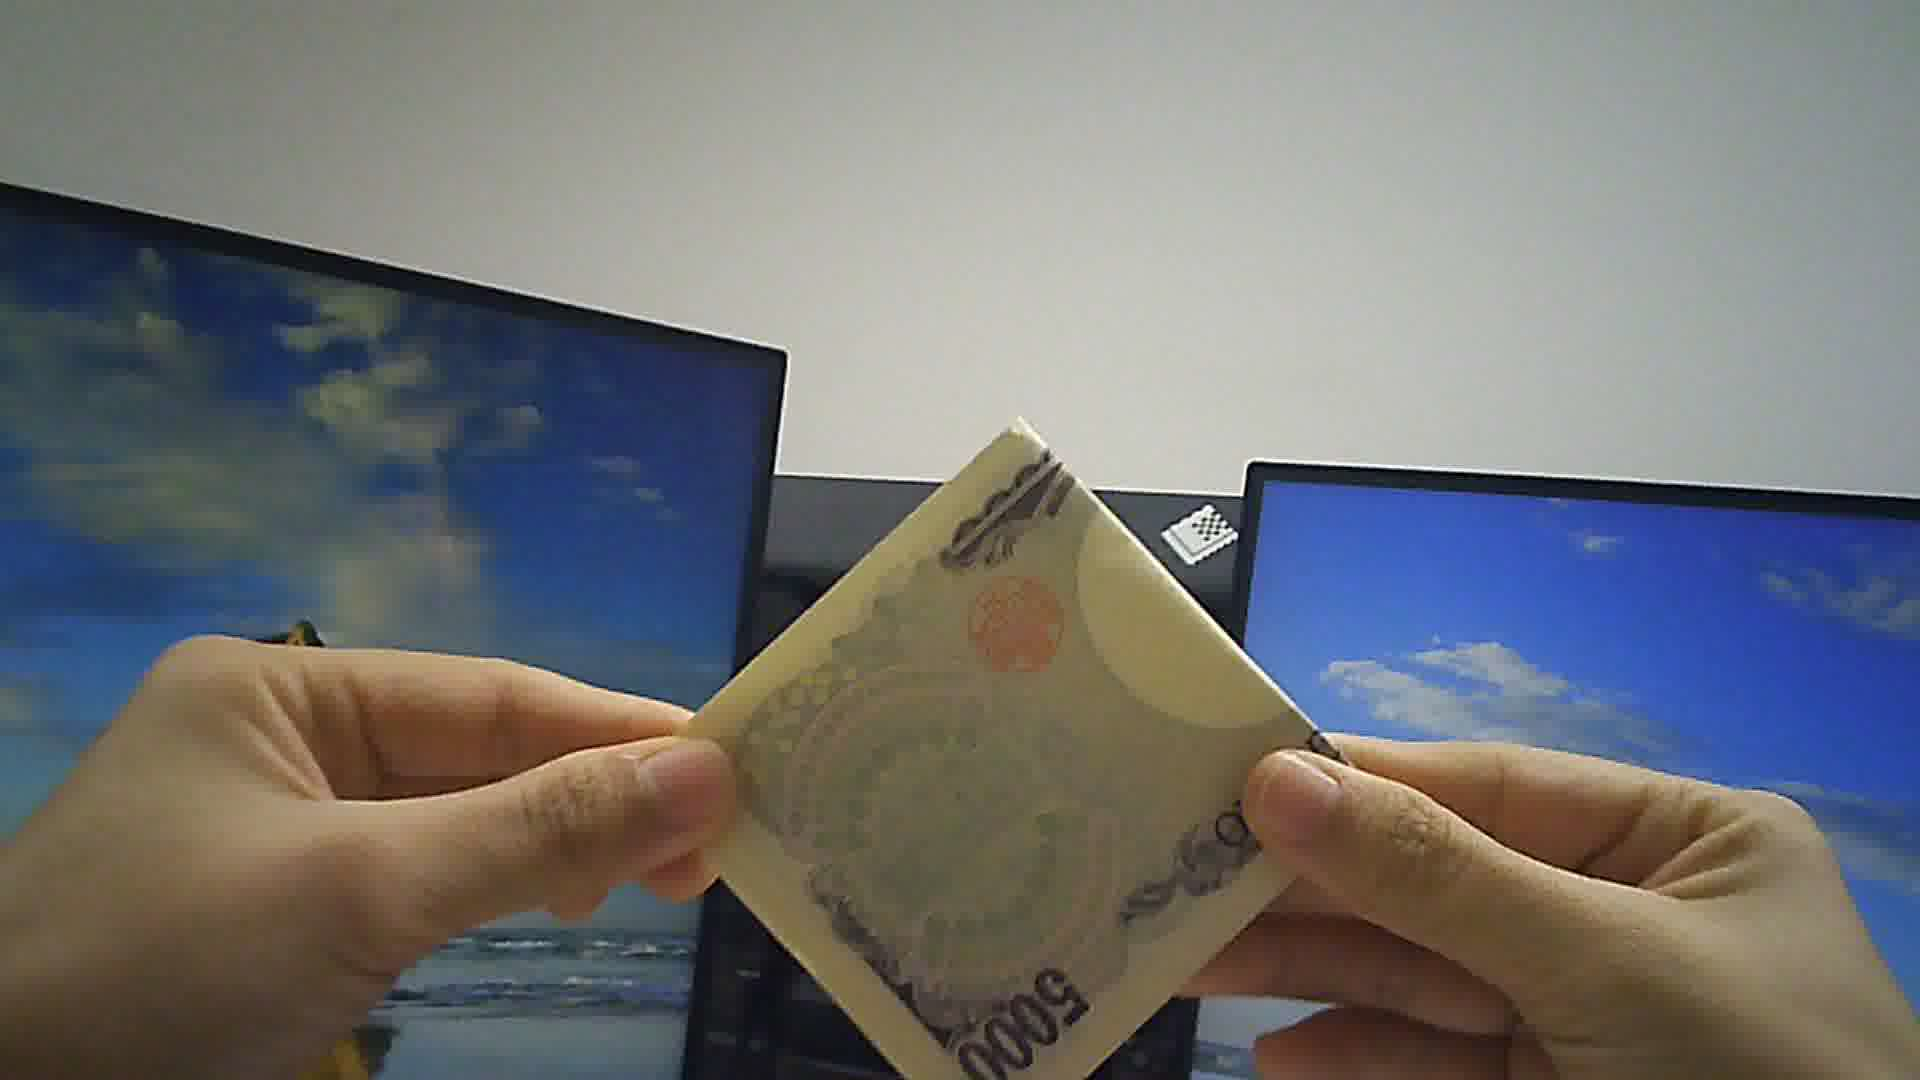5,000 Yen: (650, 436, 1356, 1075)
